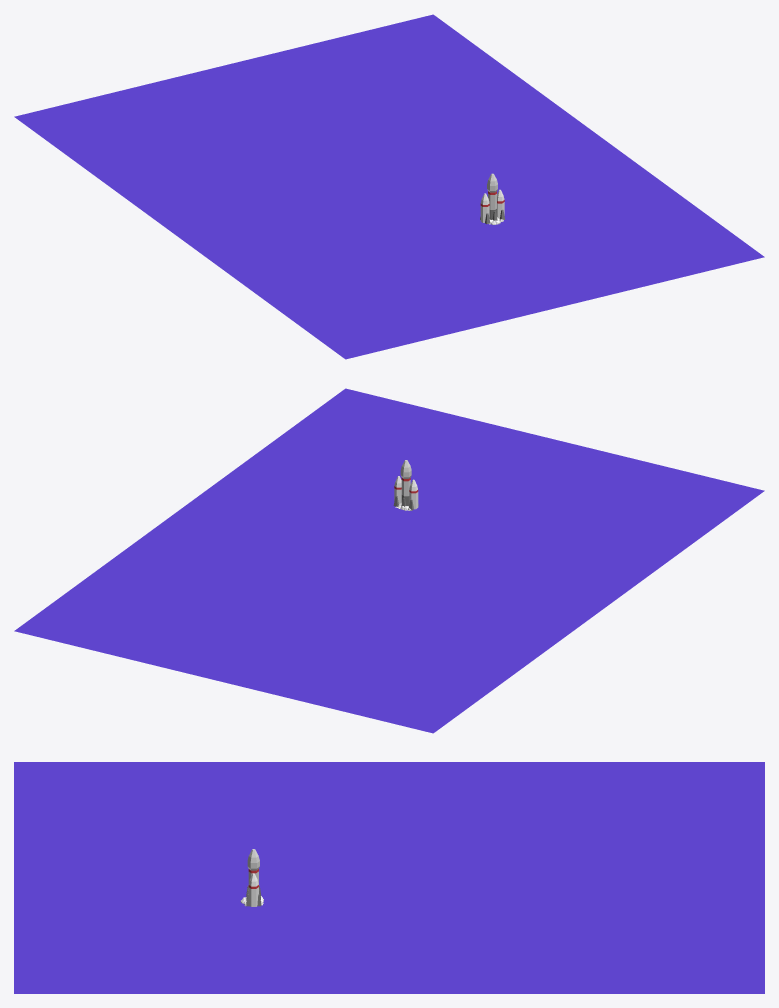
Rendered from rock.fbx.
3 renders of one model, top to bottom at view 1: azimuth 30°, elevation 25°; view 2: azimuth 150°, elevation 25°; view 3: azimuth 270°, elevation 25°, orthographic. The views are drawn at different scales.
Visible parts, largest first — view 1: Plane.003; view 2: Plane.003; view 3: Plane.003, Plane.002.
Part boxes in pixels (bbox=[...]): Plane.003: bbox=[14, 14, 764, 359]; Plane.003: bbox=[14, 388, 764, 733]; Plane.003: bbox=[14, 762, 764, 993]; Plane.002: bbox=[233, 893, 273, 910].
Size of the model in its own units: 10764 by 2898 by 14739.
